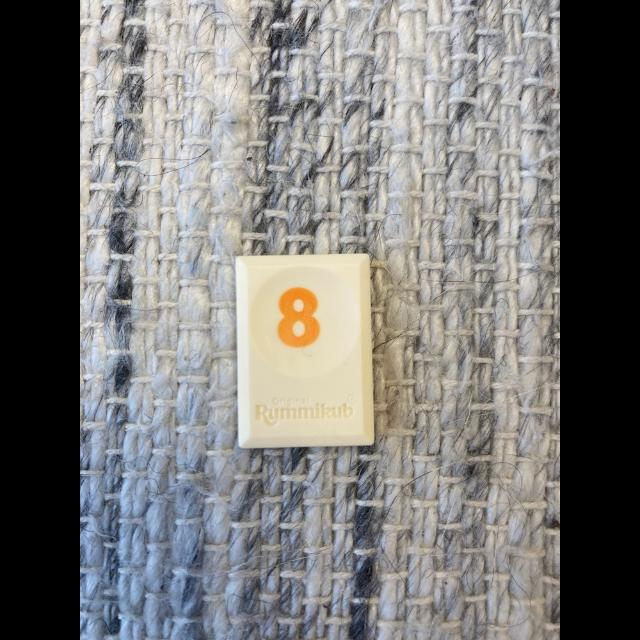orange_8: (236, 254, 374, 449)
